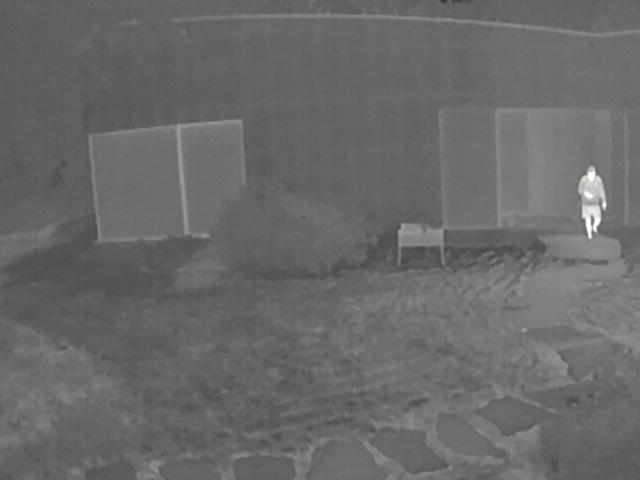person: (578, 164, 607, 242)
